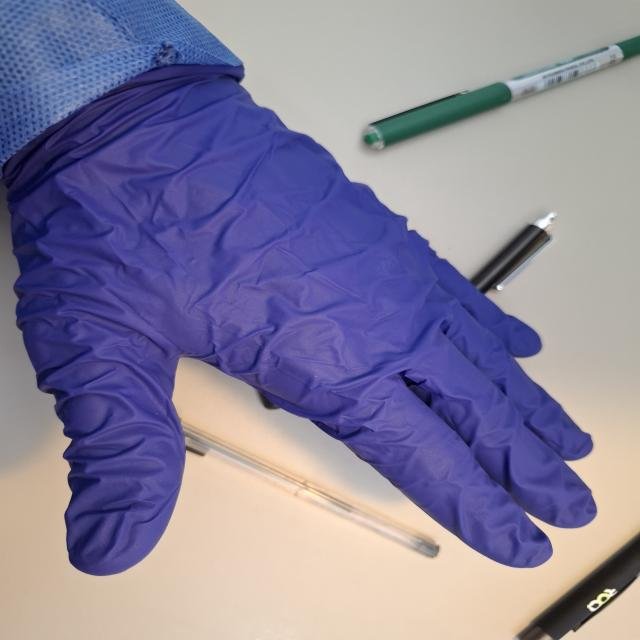glove_on: (0, 58, 602, 580)
